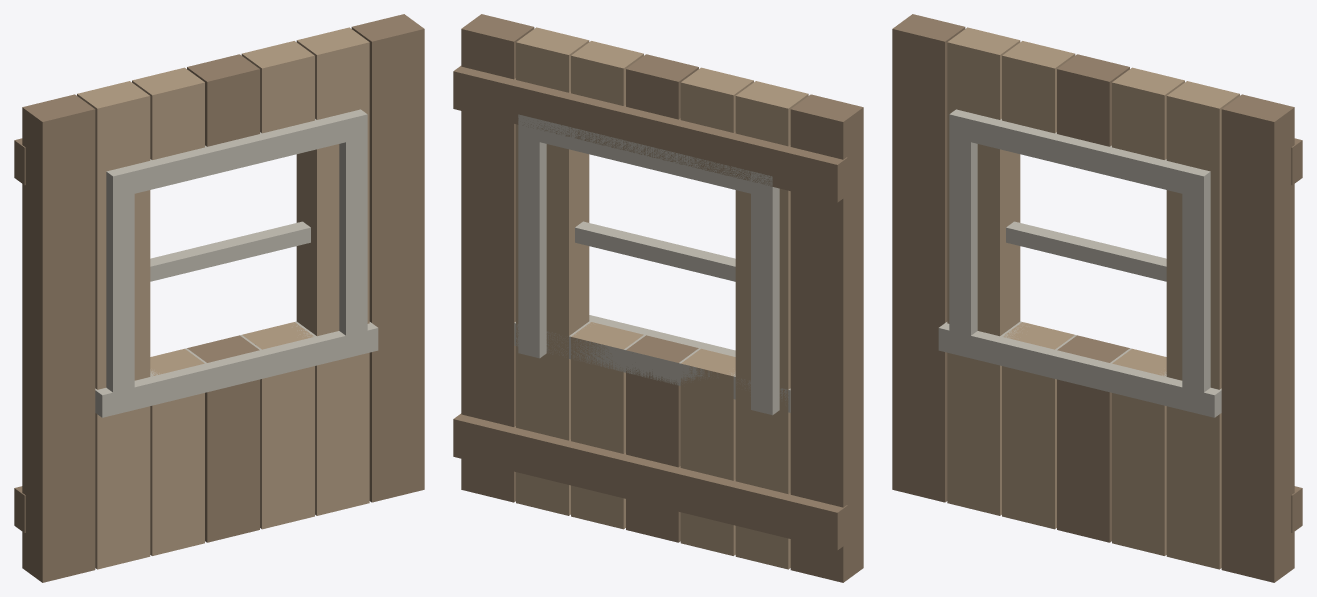
File: dm_woodwallwindow.glb
3 renders of one model, left to right at view 1: azimuth 30°, elevation 25°; view 2: azimuth 150°, elevation 25°; view 3: azimuth 330°, elevation 25°, orthographic.
Parts seen in each view (by area): view 1: dm_woodwallwindow; view 2: dm_woodwallwindow; view 3: dm_woodwallwindow.
Boxes of the visible parts, <box> form: dm_woodwallwindow: <box>14,14,424,582</box>; dm_woodwallwindow: <box>453,14,863,582</box>; dm_woodwallwindow: <box>892,14,1302,582</box>.
Bounding box in the file's own units: 1.07 × 1.22 × 0.163.
